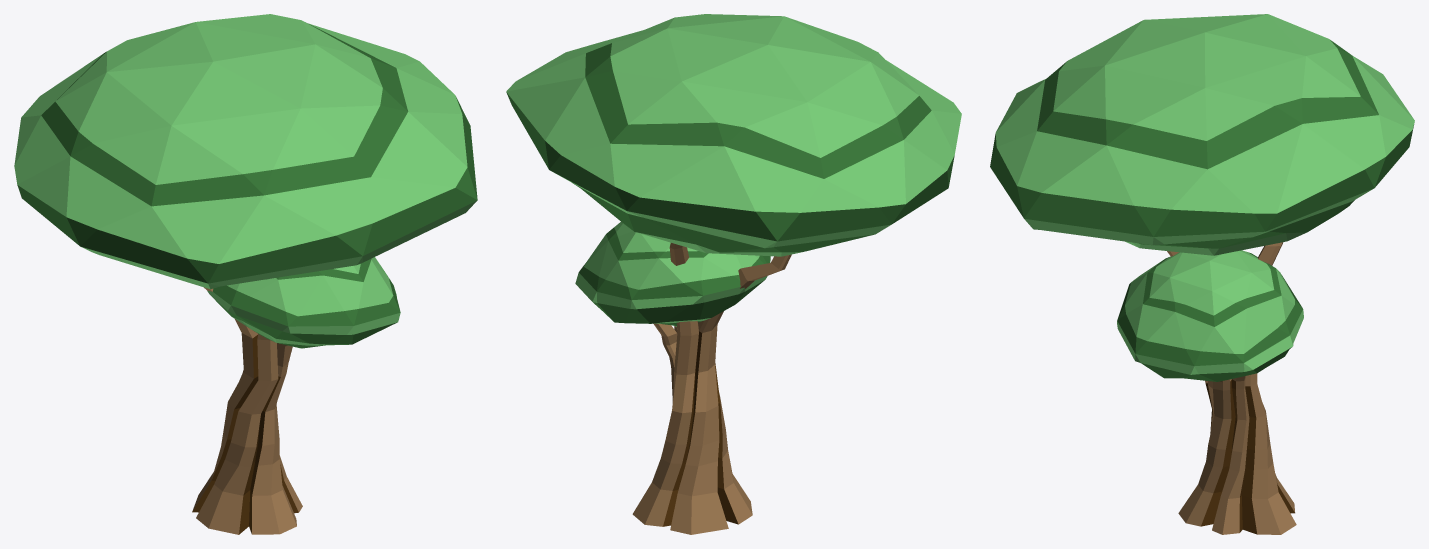
Rendered from tree03.fbx.
The picture shows the model from 3 angles, left to right: view 1: azimuth 30°, elevation 25°; view 2: azimuth 150°, elevation 25°; view 3: azimuth 270°, elevation 25°; orthographic projection. The views are drawn at different scales.
Visible parts, largest first — view 1: Icosphere.002, Cylinder, Icosphere; view 2: Icosphere.002, Cylinder, Icosphere; view 3: Icosphere.002, Icosphere, Cylinder.
Part boxes in pixels (x1,y1,x2,y2): Icosphere.002: (14,14,477,289); Cylinder: (192,287,302,534); Icosphere: (207,257,400,348); Icosphere.002: (506,14,961,256); Cylinder: (632,243,791,534); Icosphere: (575,222,770,326); Icosphere.002: (990,14,1414,255); Icosphere: (1117,250,1303,381); Cylinder: (1167,242,1296,534).
Size of the model in its own units: 3156 by 3574 by 3017.
